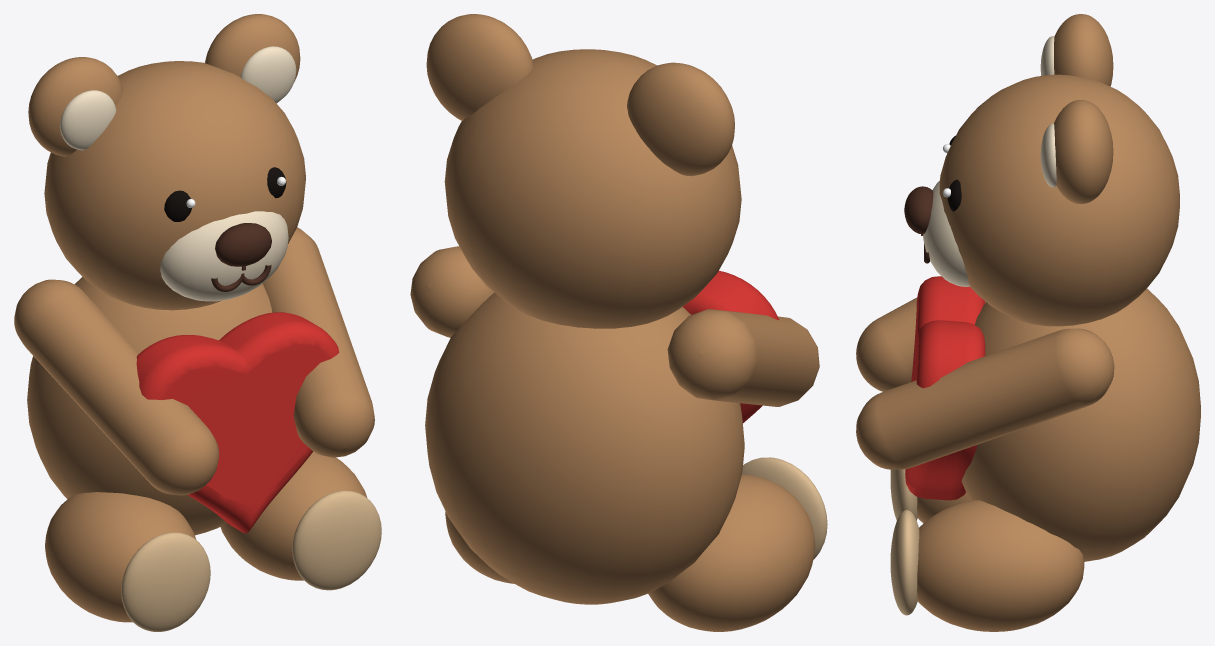
Rendered from teddy.glb.
The picture shows the model from 3 angles, left to right: view 1: azimuth 30°, elevation 25°; view 2: azimuth 150°, elevation 25°; view 3: azimuth 270°, elevation 25°; orthographic projection. The views are drawn at different scales.
Parts seen in each view (by area): view 1: Fur, Heart, Pad, Cream, Nose, Eye; view 2: Fur, Heart, Pad; view 3: Fur, Heart, Cream, Pad, Nose.
Part boxes in pixels (x1=…): Fur: x1=14, y1=14, x2=374, y2=622; Heart: x1=136, y1=312, x2=339, y2=533; Pad: x1=121, y1=490, x2=381, y2=631; Cream: x1=60, y1=46, x2=296, y2=301; Nose: x1=211, y1=223, x2=271, y2=291; Eye: x1=164, y1=167, x2=286, y2=221; Fur: x1=410, y1=14, x2=819, y2=631; Heart: x1=682, y1=270, x2=779, y2=422; Pad: x1=742, y1=457, x2=827, y2=559; Fur: x1=856, y1=14, x2=1200, y2=631; Heart: x1=905, y1=276, x2=985, y2=500; Cream: x1=923, y1=36, x2=1056, y2=286; Pad: x1=890, y1=469, x2=919, y2=615; Nose: x1=904, y1=186, x2=933, y2=263.
Size of the model in its own units: 0.236 by 0.396 by 0.2374.
